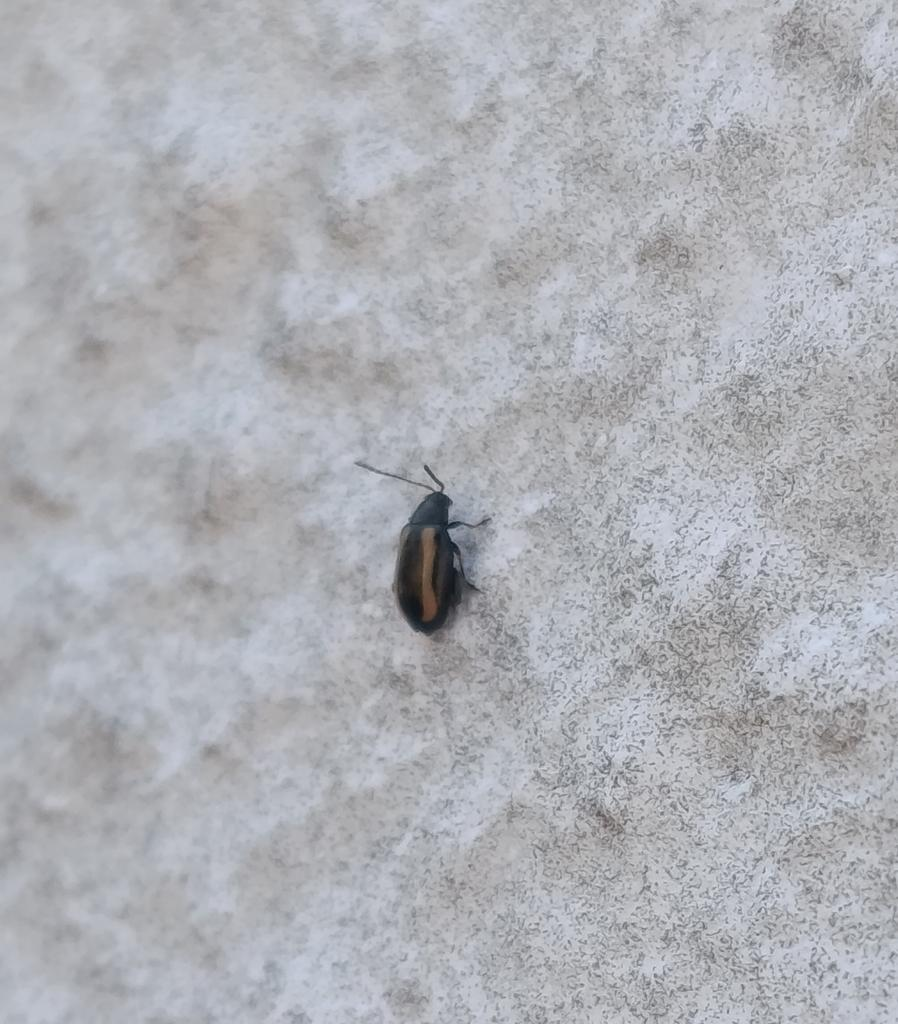flea_beetle: (327, 412, 523, 644)
